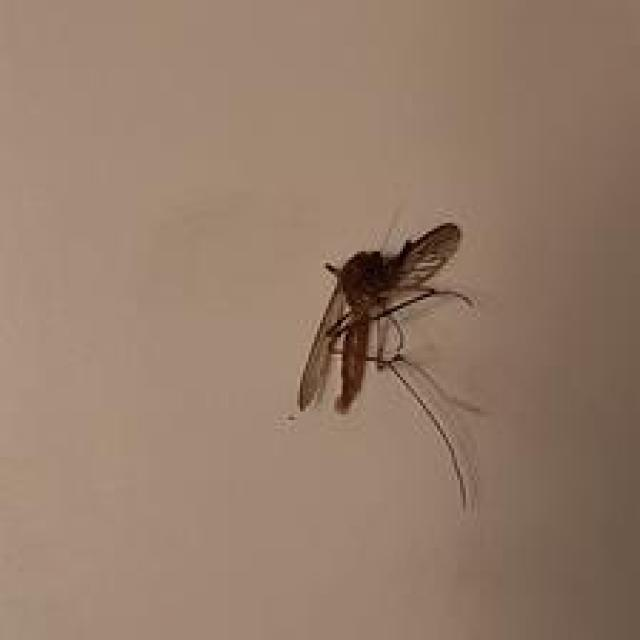Culex: (294, 201, 486, 513)
